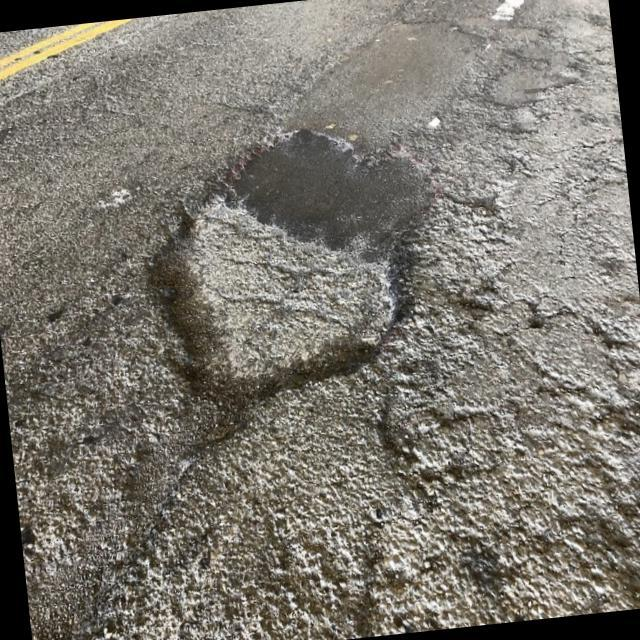Pothole: (143, 110, 445, 399)
